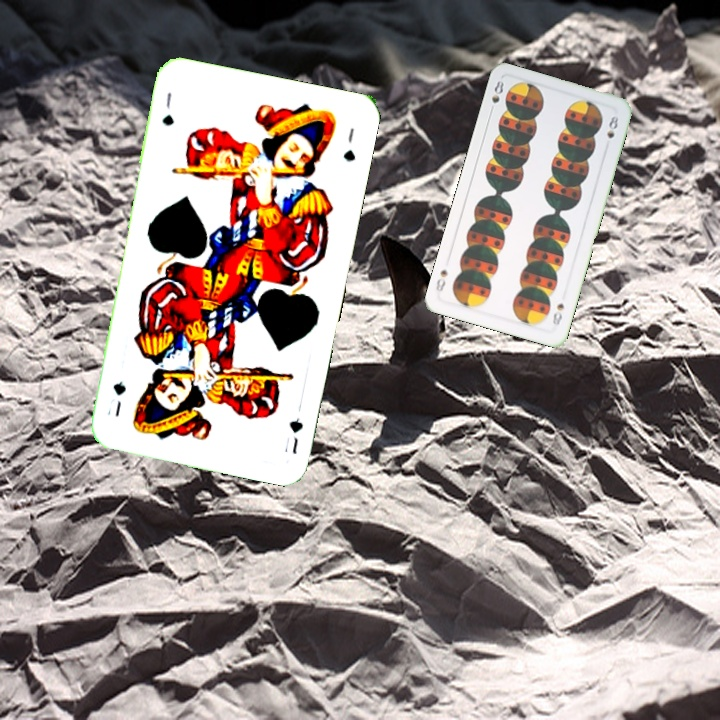GU: (280, 414, 306, 457), (158, 88, 177, 128)
S8: (486, 77, 506, 116), (548, 299, 567, 328)
